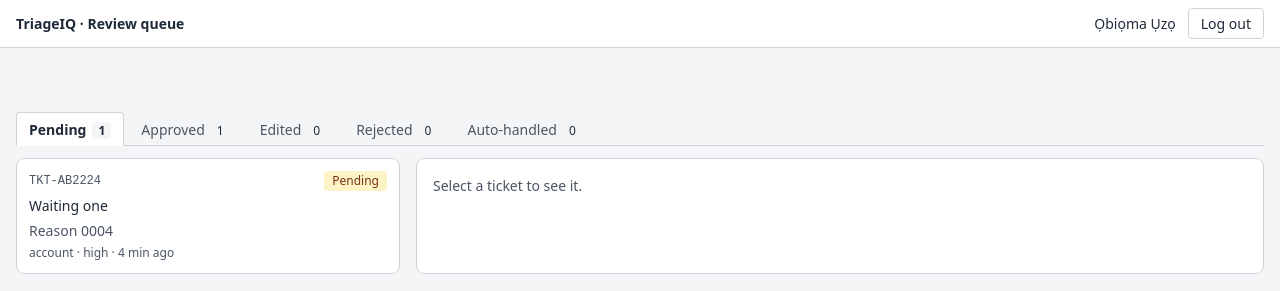
Test: the list and the tabs › the tab is in the URL: clicking one changes ?tab and the list
Expected: the text "Waiting one" is shown, [29, 196, 108, 215]
Click the tab "Approved1" at (186, 129), box [128, 112, 243, 146]
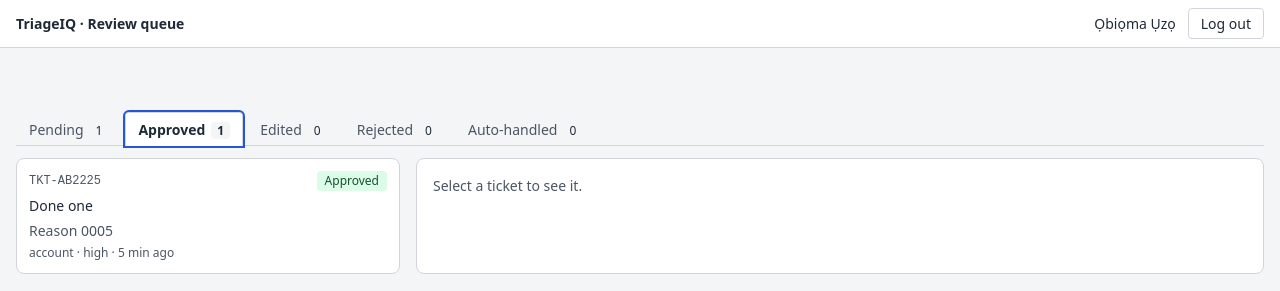
Expected: the text "Done one" is shown, [29, 196, 93, 215]
Expected: the button "Waiting one" is gone
